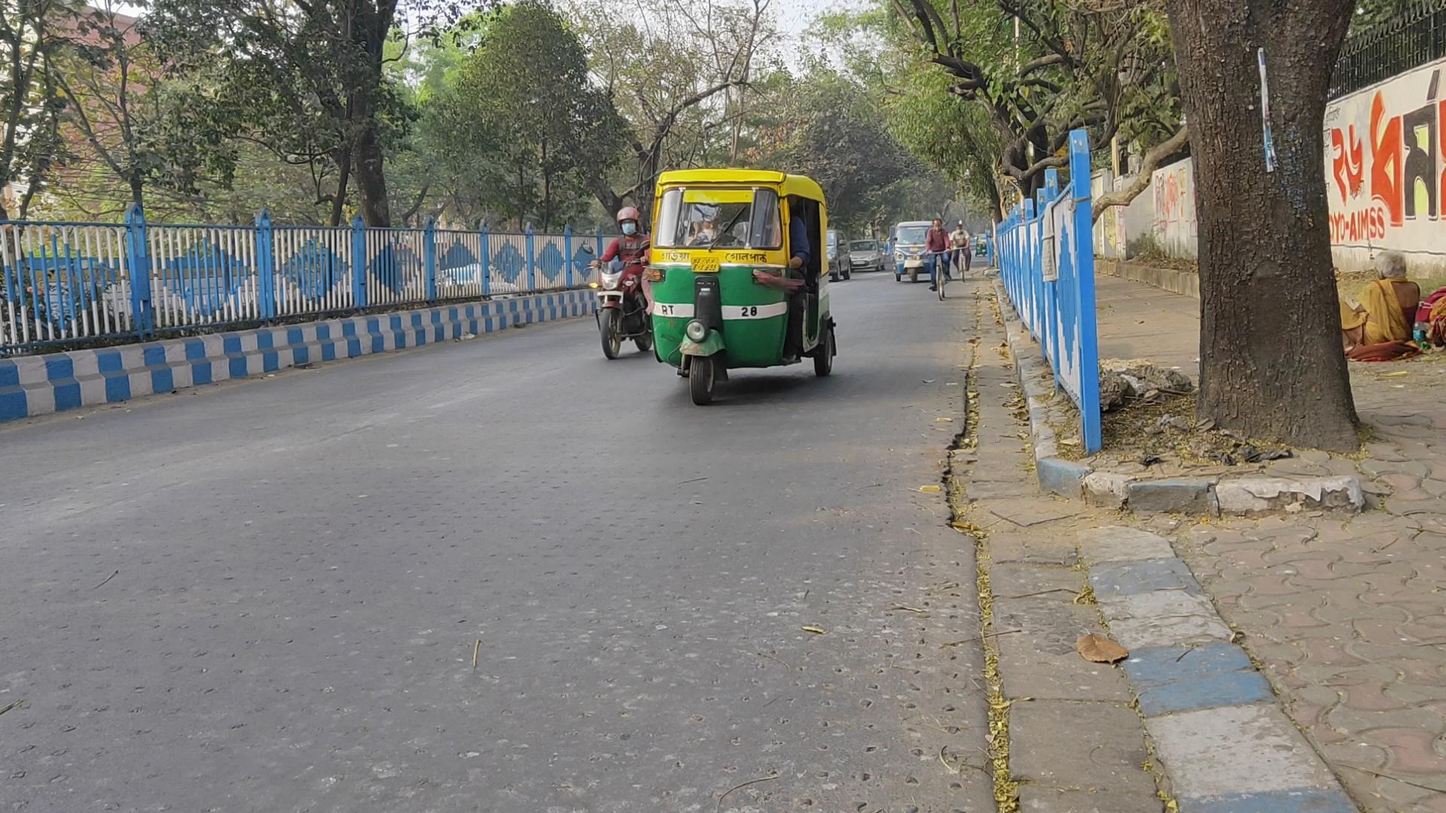Auto: (641, 166, 837, 406)
bike: (581, 204, 648, 361), (925, 218, 953, 300), (949, 224, 972, 283)
car: (850, 237, 886, 274), (827, 228, 851, 282)
van: (888, 221, 940, 284)
